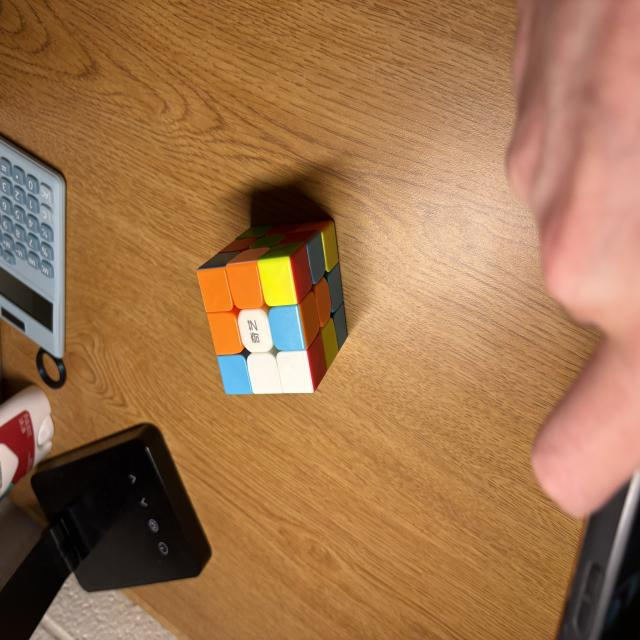Rubiks Cube: (197, 221, 348, 396)
